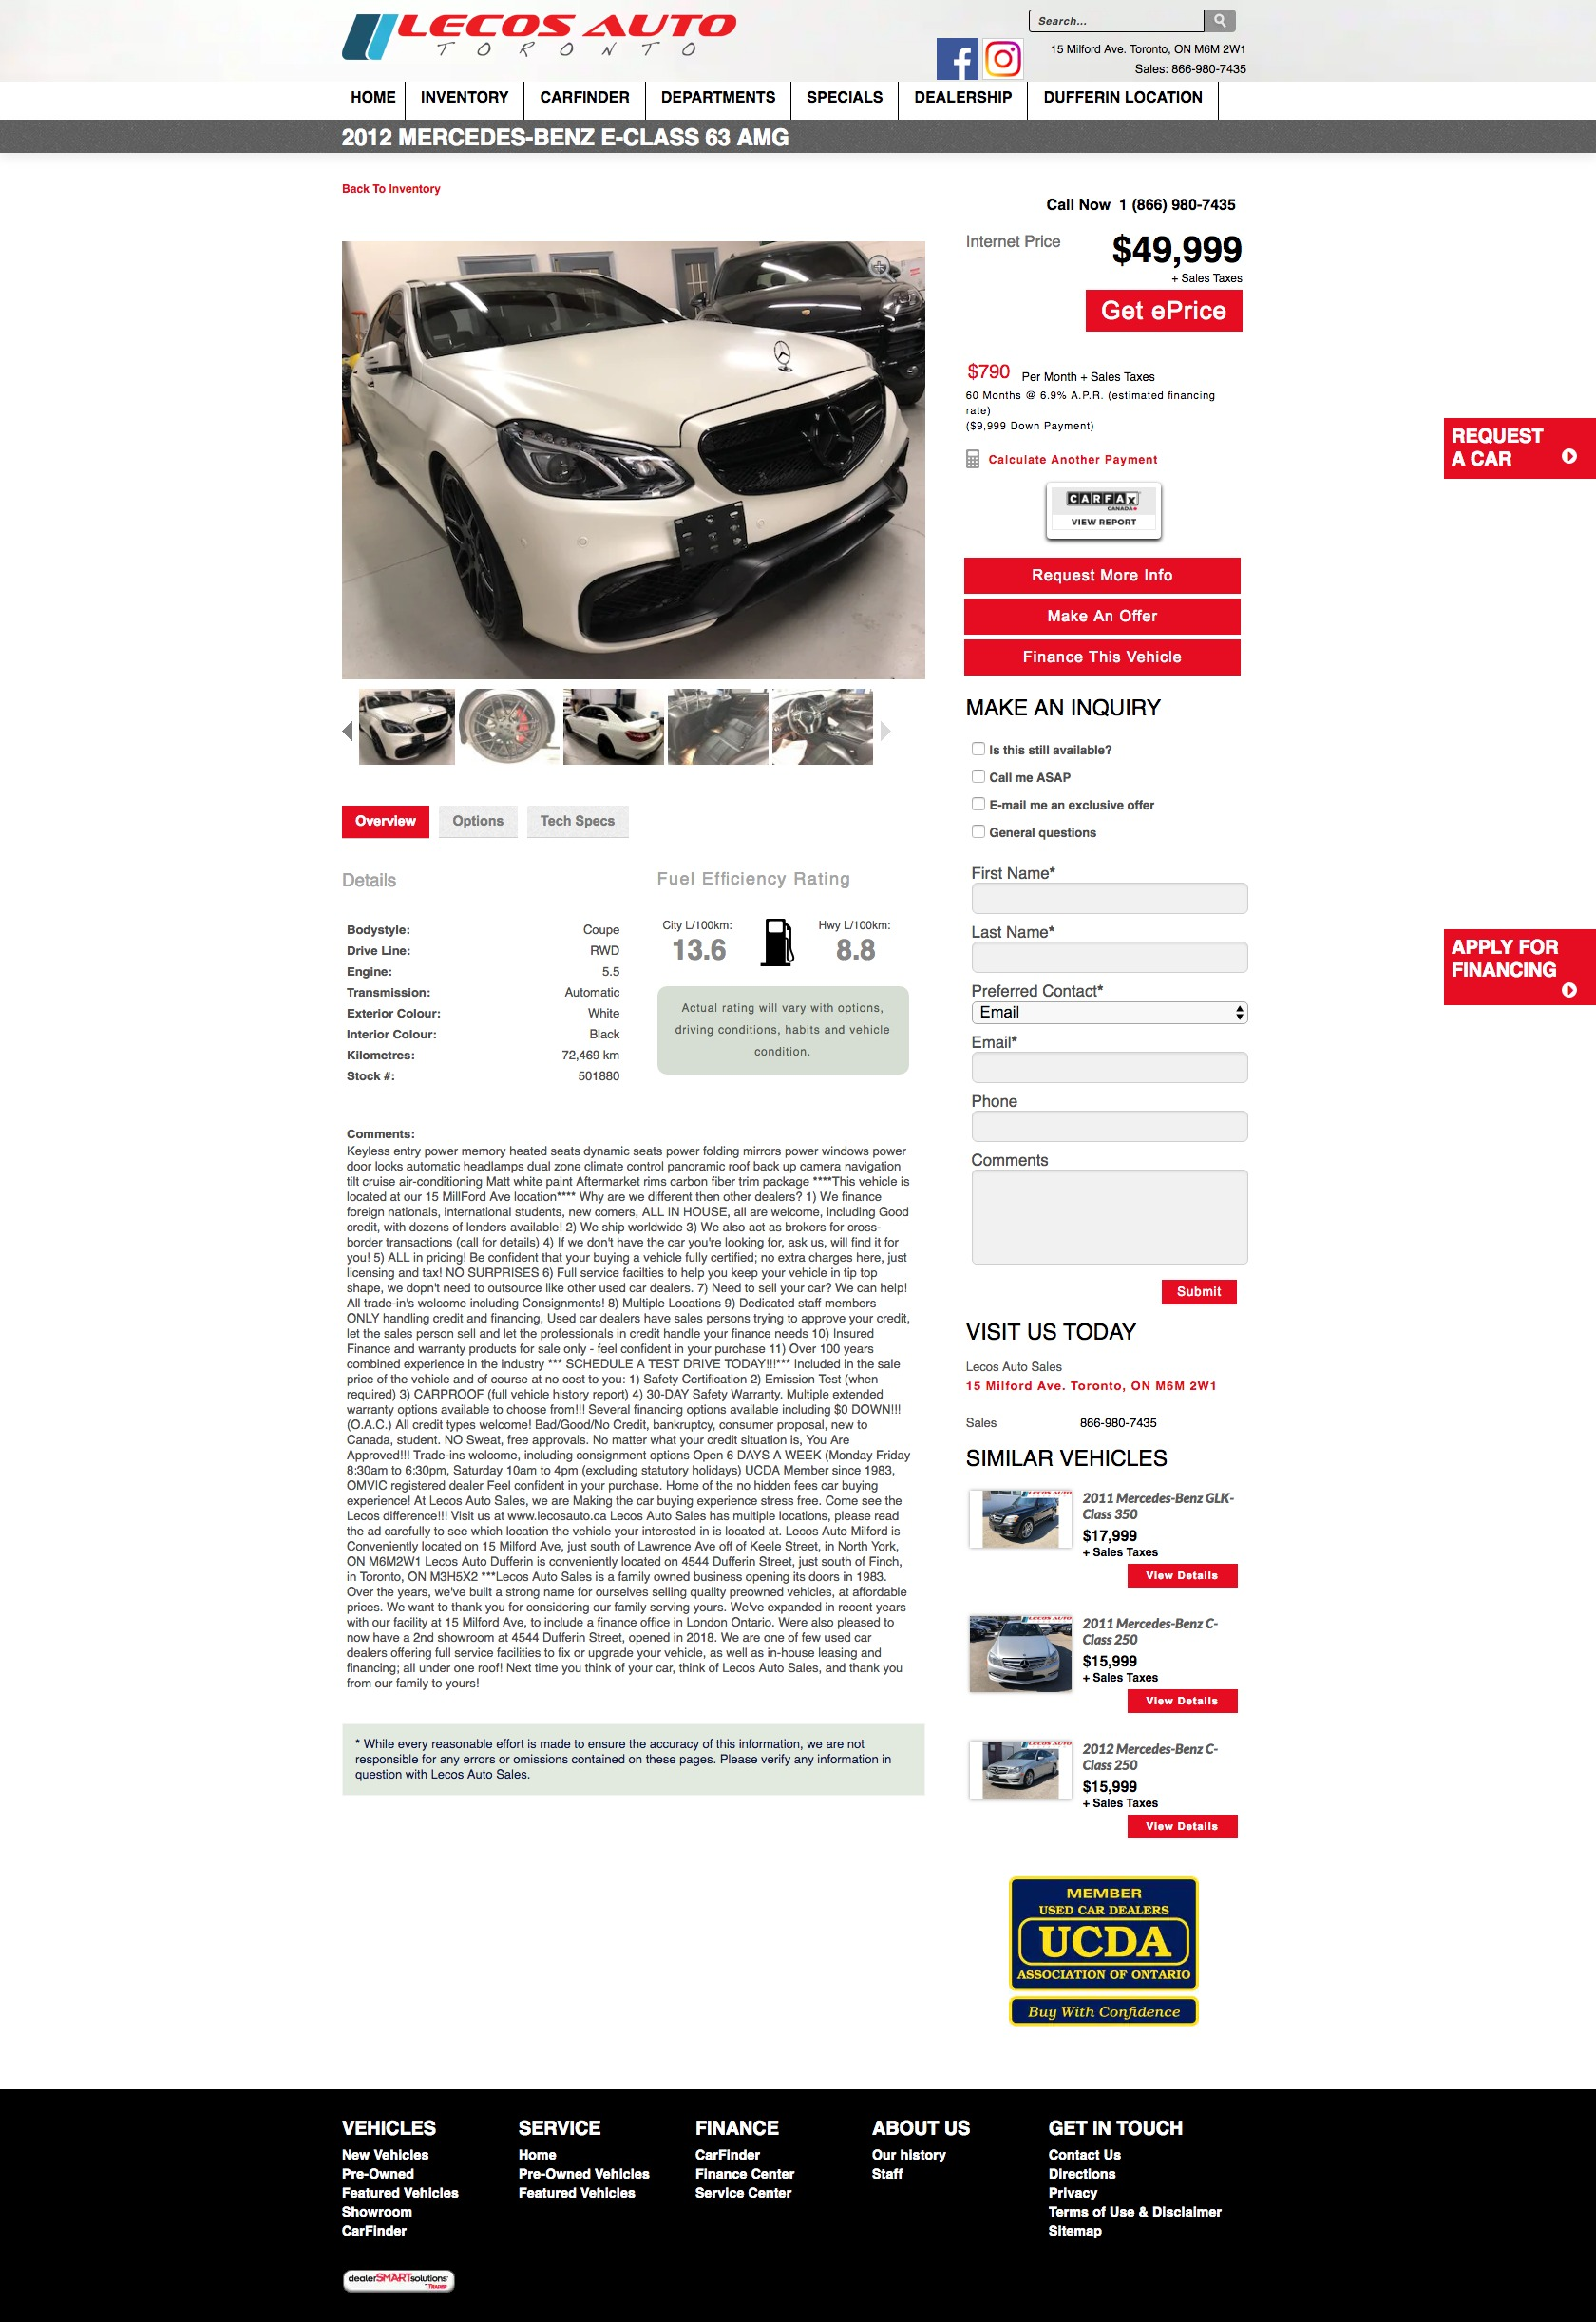car: (880, 720, 892, 743)
